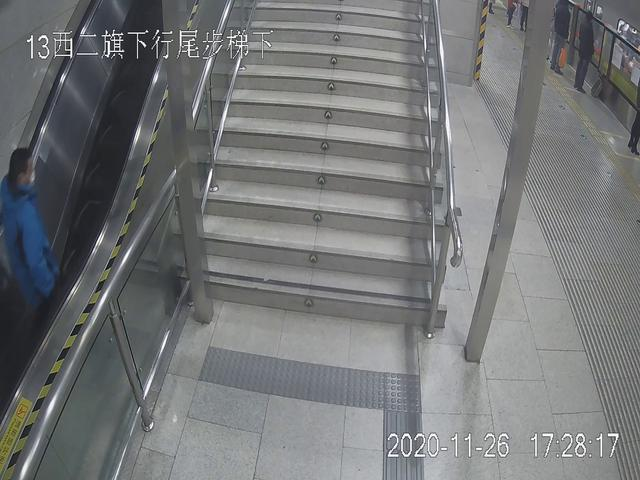person: (1, 137, 65, 322), (575, 8, 596, 92), (548, 1, 569, 78)
